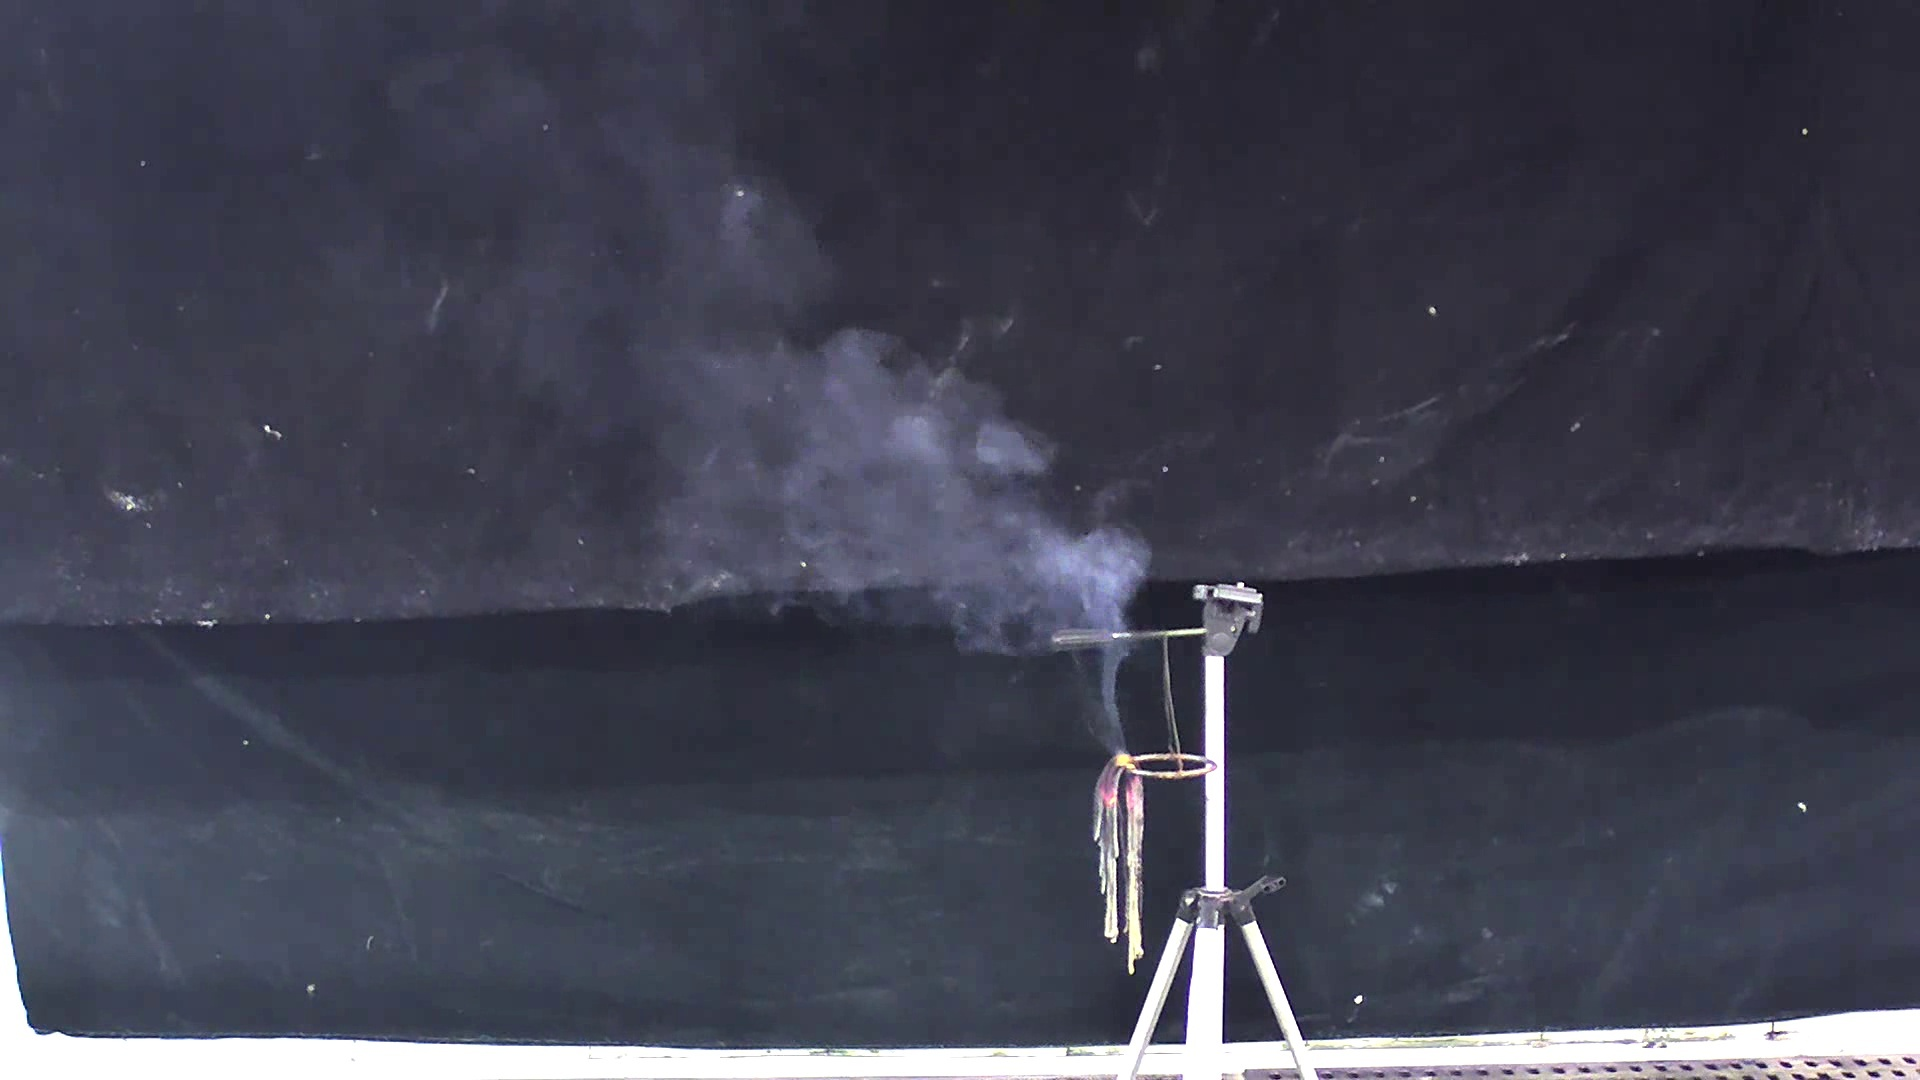smoke: (377, 18, 1146, 764)
